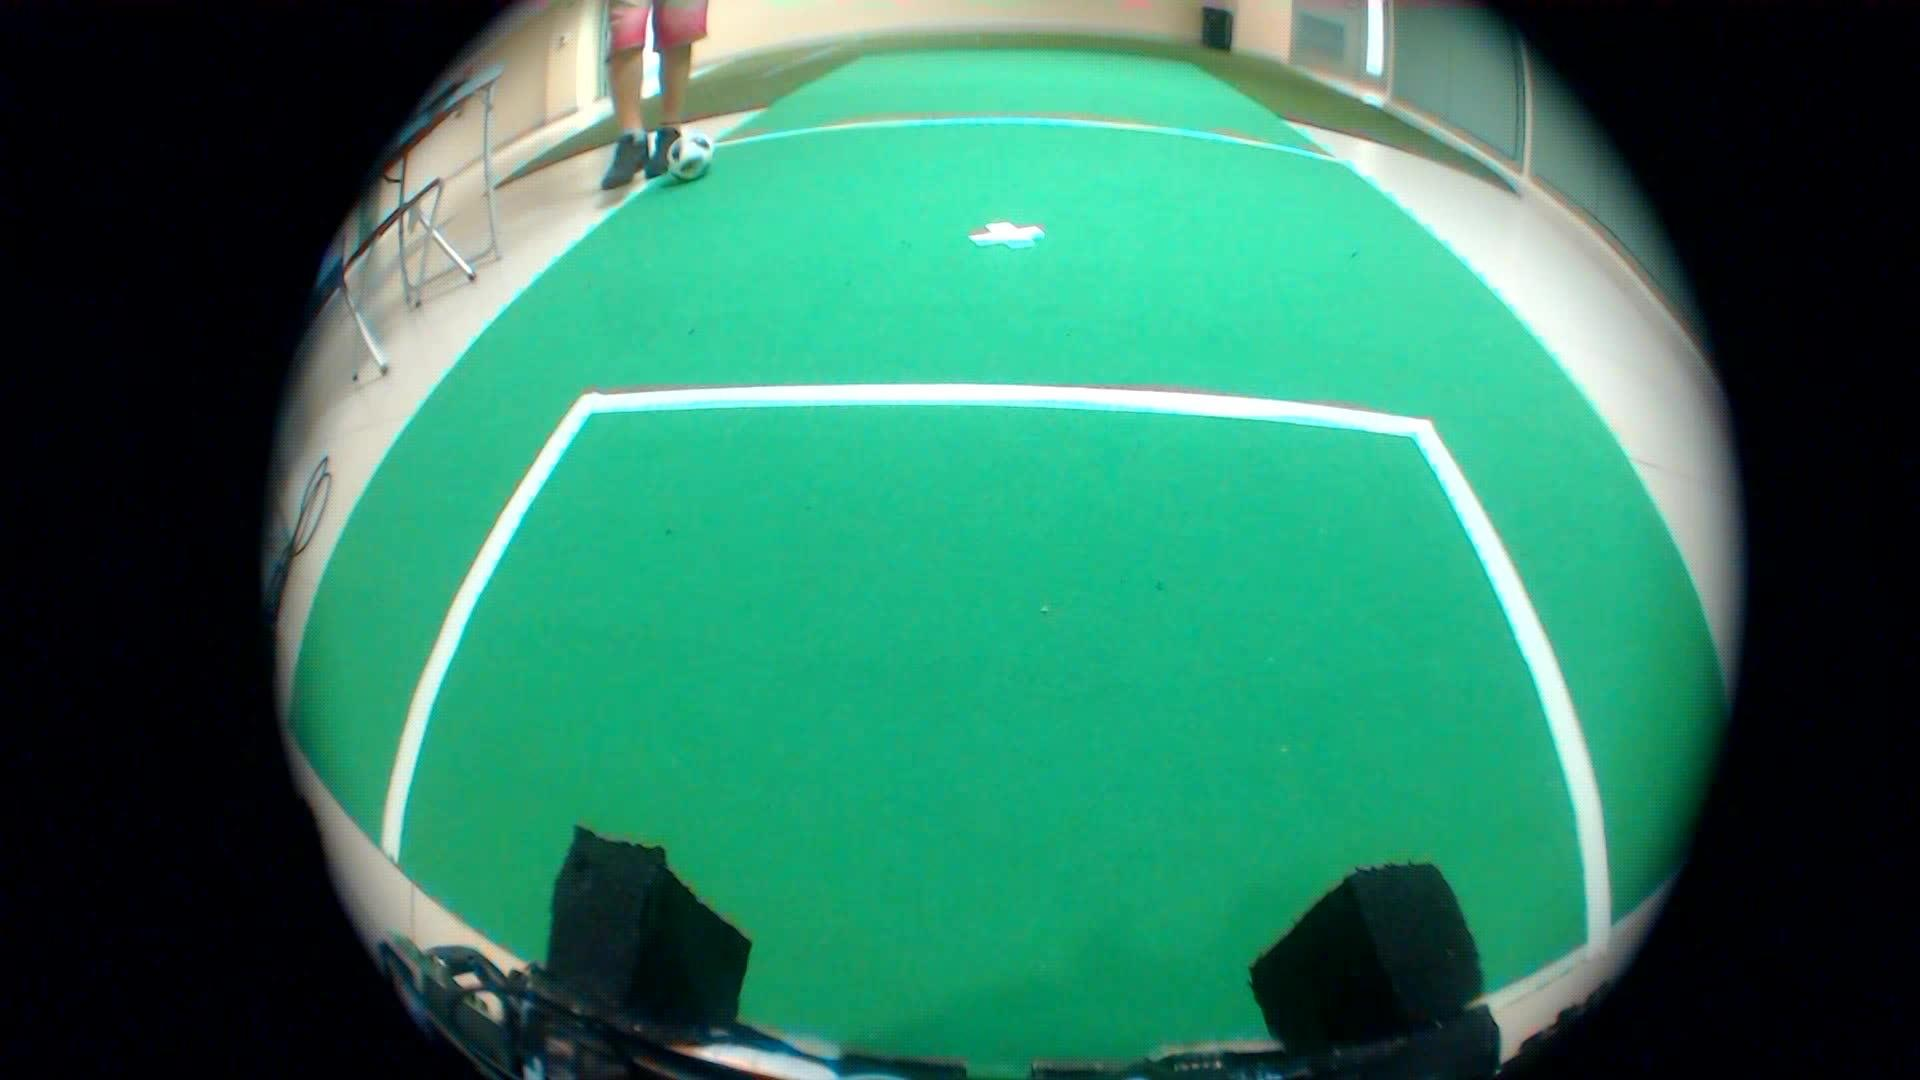ball: (655, 115, 719, 189)
